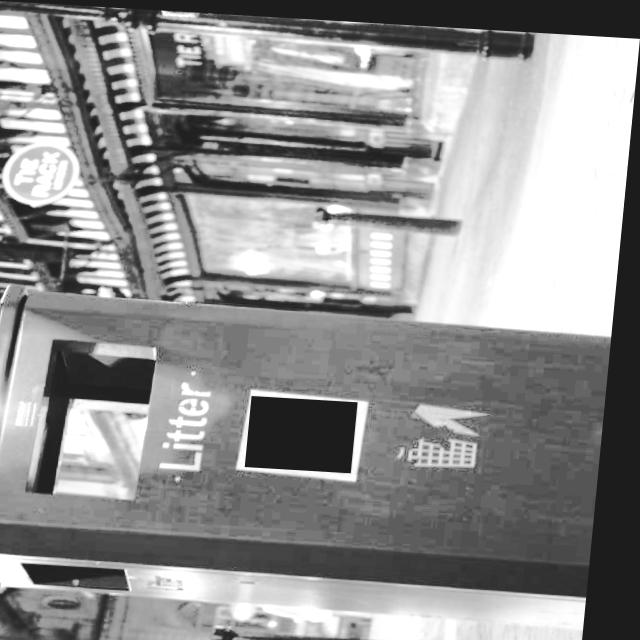qr_code: (254, 391, 365, 467)
